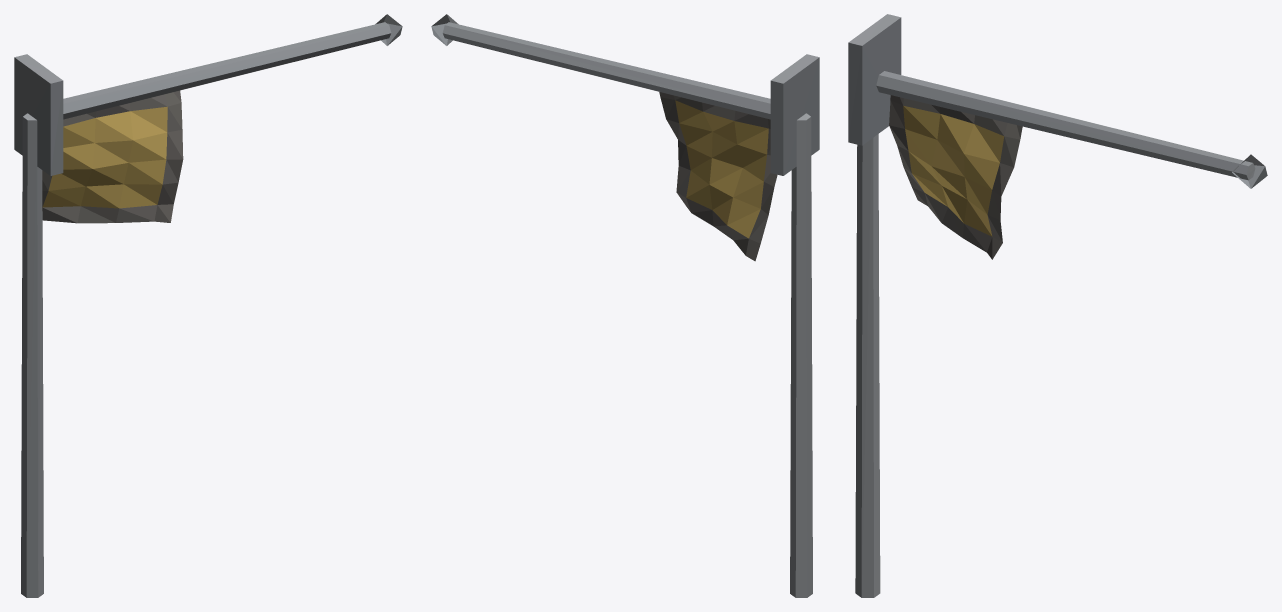
Rendered from flag.square.huangqi__pole.horizontal.big__armHang.glb.
The picture shows the model from 3 angles, left to right: view 1: azimuth 30°, elevation 25°; view 2: azimuth 150°, elevation 25°; view 3: azimuth 330°, elevation 25°; orthographic projection. The views are drawn at different scales.
Parts seen in each view (by area): view 1: flag.square.huangqi; view 2: flag.square.huangqi; view 3: flag.square.huangqi.
Part boxes in pixels (x1,y1,x2,y2): flag.square.huangqi: (14, 14, 402, 597); flag.square.huangqi: (431, 14, 819, 597); flag.square.huangqi: (848, 14, 1267, 597).
Bounding box in the file's own units: 2.66 × 3.51 × 0.5588.
